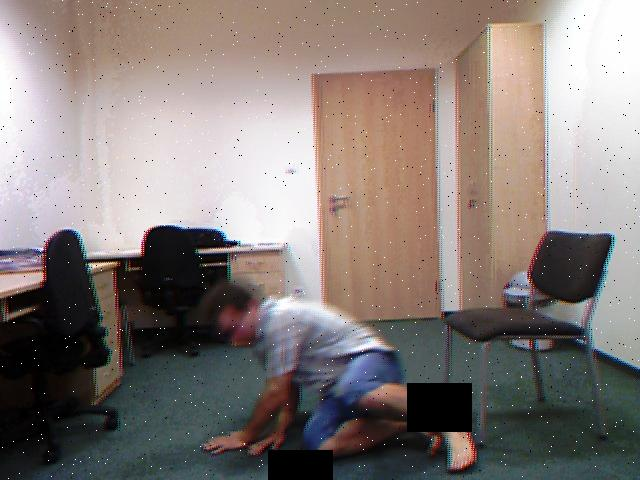fall: (182, 272, 497, 477)
